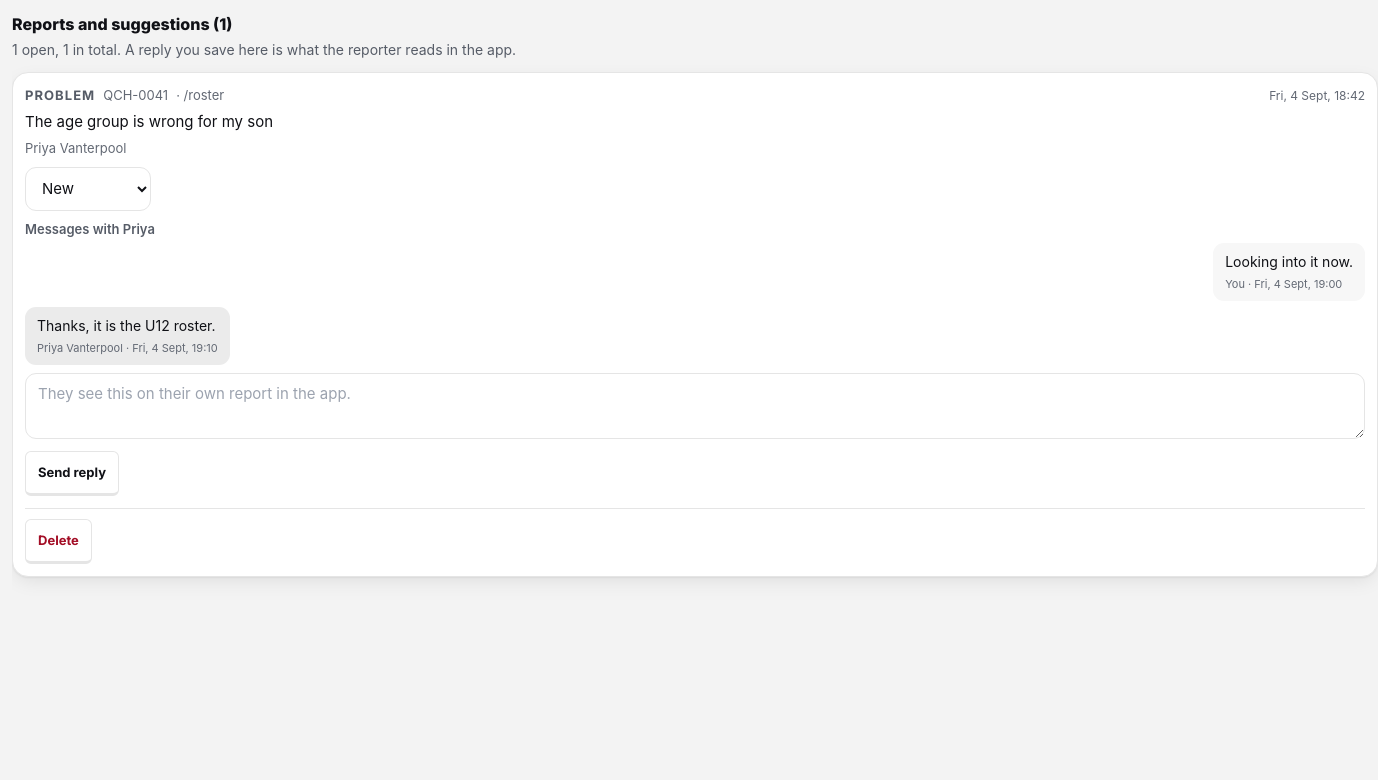
Test case: deleting a report › does not delete on the first press
Click the button "Delete". click: [58, 541]
box: [25, 519, 92, 564]
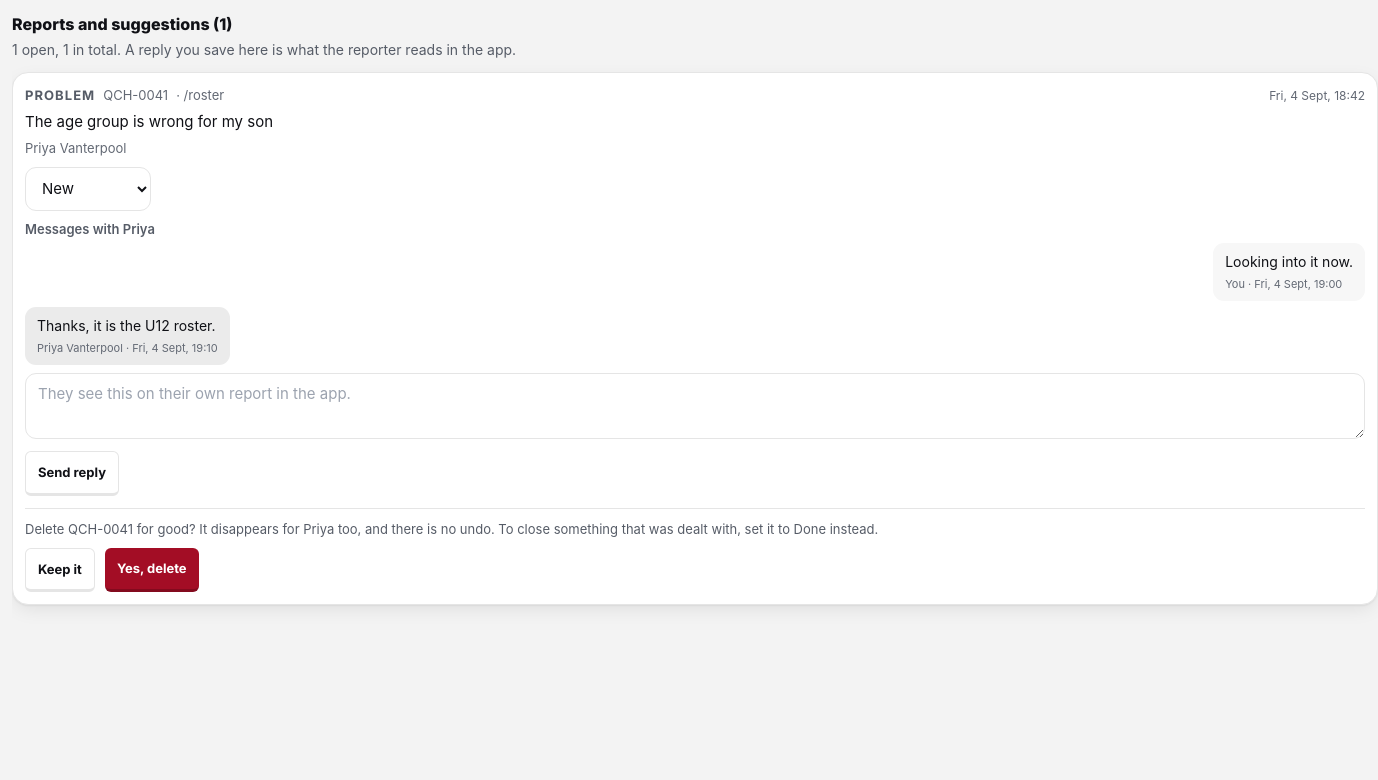
expect the button "Yes, delete" is shown: met, box [105, 548, 199, 592]
